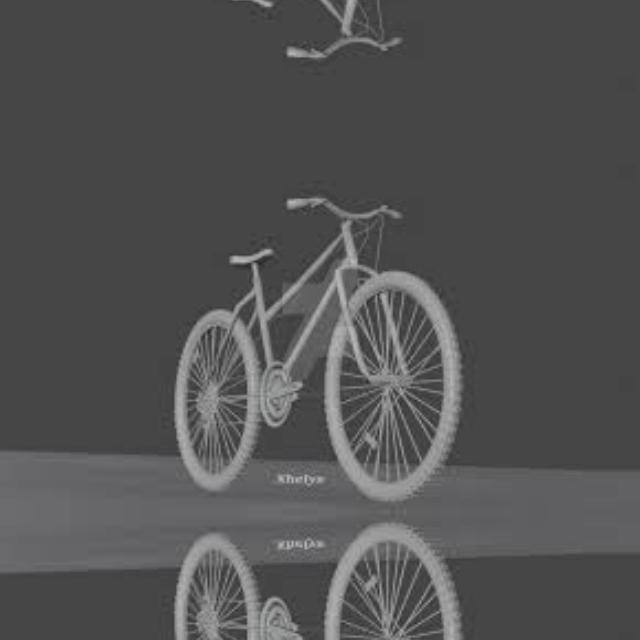obstacle: (170, 185, 476, 508), (170, 516, 476, 640), (170, 0, 476, 71)
